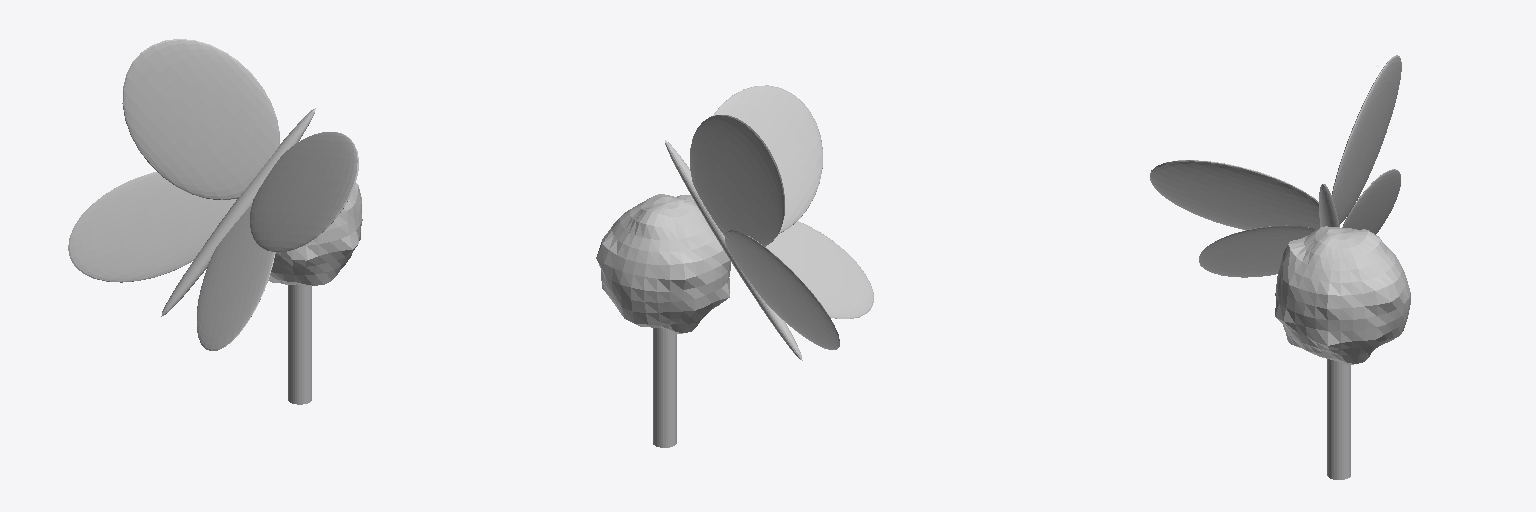
Rendered from blue_faces.obj.
3 views of the same model, side by side, from view 1: azimuth 30°, elevation 25°; view 2: azimuth 150°, elevation 25°; view 3: azimuth 270°, elevation 25° (orthographic).
Visible parts, largest first — view 1: Sphere.001, Sphere.004, Sphere.002, Sphere.003, Sphere.005, Cylinder, Sphere; view 2: Sphere.005, Sphere.001, Sphere.002, Sphere.003, Sphere.004, Cylinder, Sphere; view 3: Sphere.005, Sphere.002, Sphere.001, Sphere.003, Cylinder, Sphere.004, Sphere.
Part boxes in pixels (bbox=[...]): Sphere.001: bbox=[122, 39, 279, 199]; Sphere.004: bbox=[68, 172, 236, 282]; Sphere.002: bbox=[250, 132, 358, 252]; Sphere.003: bbox=[197, 205, 275, 350]; Sphere.005: bbox=[268, 183, 362, 285]; Cylinder: bbox=[288, 284, 311, 404]; Sphere: bbox=[161, 108, 315, 316]; Sphere.005: bbox=[596, 194, 730, 333]; Sphere.001: bbox=[690, 115, 784, 246]; Sphere.002: bbox=[713, 85, 822, 233]; Sphere.003: bbox=[766, 221, 873, 318]; Sphere.004: bbox=[725, 230, 839, 349]; Cylinder: bbox=[653, 328, 676, 447]; Sphere: bbox=[665, 140, 802, 360]; Sphere.005: bbox=[1275, 226, 1410, 364]; Sphere.002: bbox=[1150, 160, 1319, 229]; Sphere.001: bbox=[1332, 55, 1401, 224]; Sphere.003: bbox=[1199, 225, 1315, 277]; Cylinder: bbox=[1327, 359, 1350, 479]; Sphere.004: bbox=[1342, 169, 1400, 234]; Sphere: bbox=[1319, 184, 1339, 227].
Size of the model in its own units: 5.81 by 7.87 by 5.09.